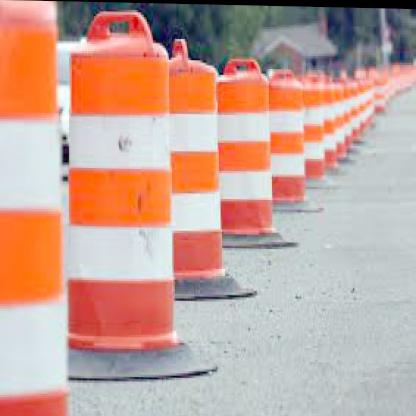obstacle: (69, 10, 179, 349), (170, 36, 228, 284), (219, 51, 278, 241)
